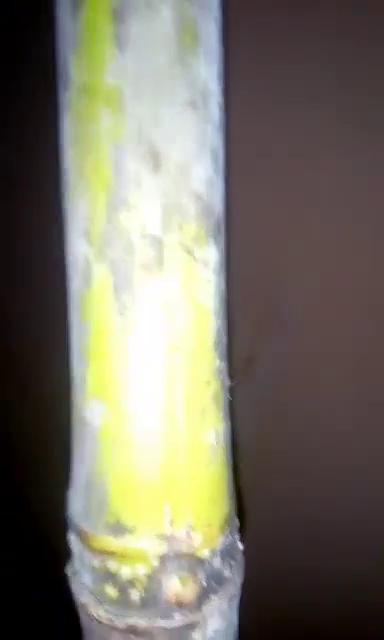cane eye: (154, 556, 212, 612)
